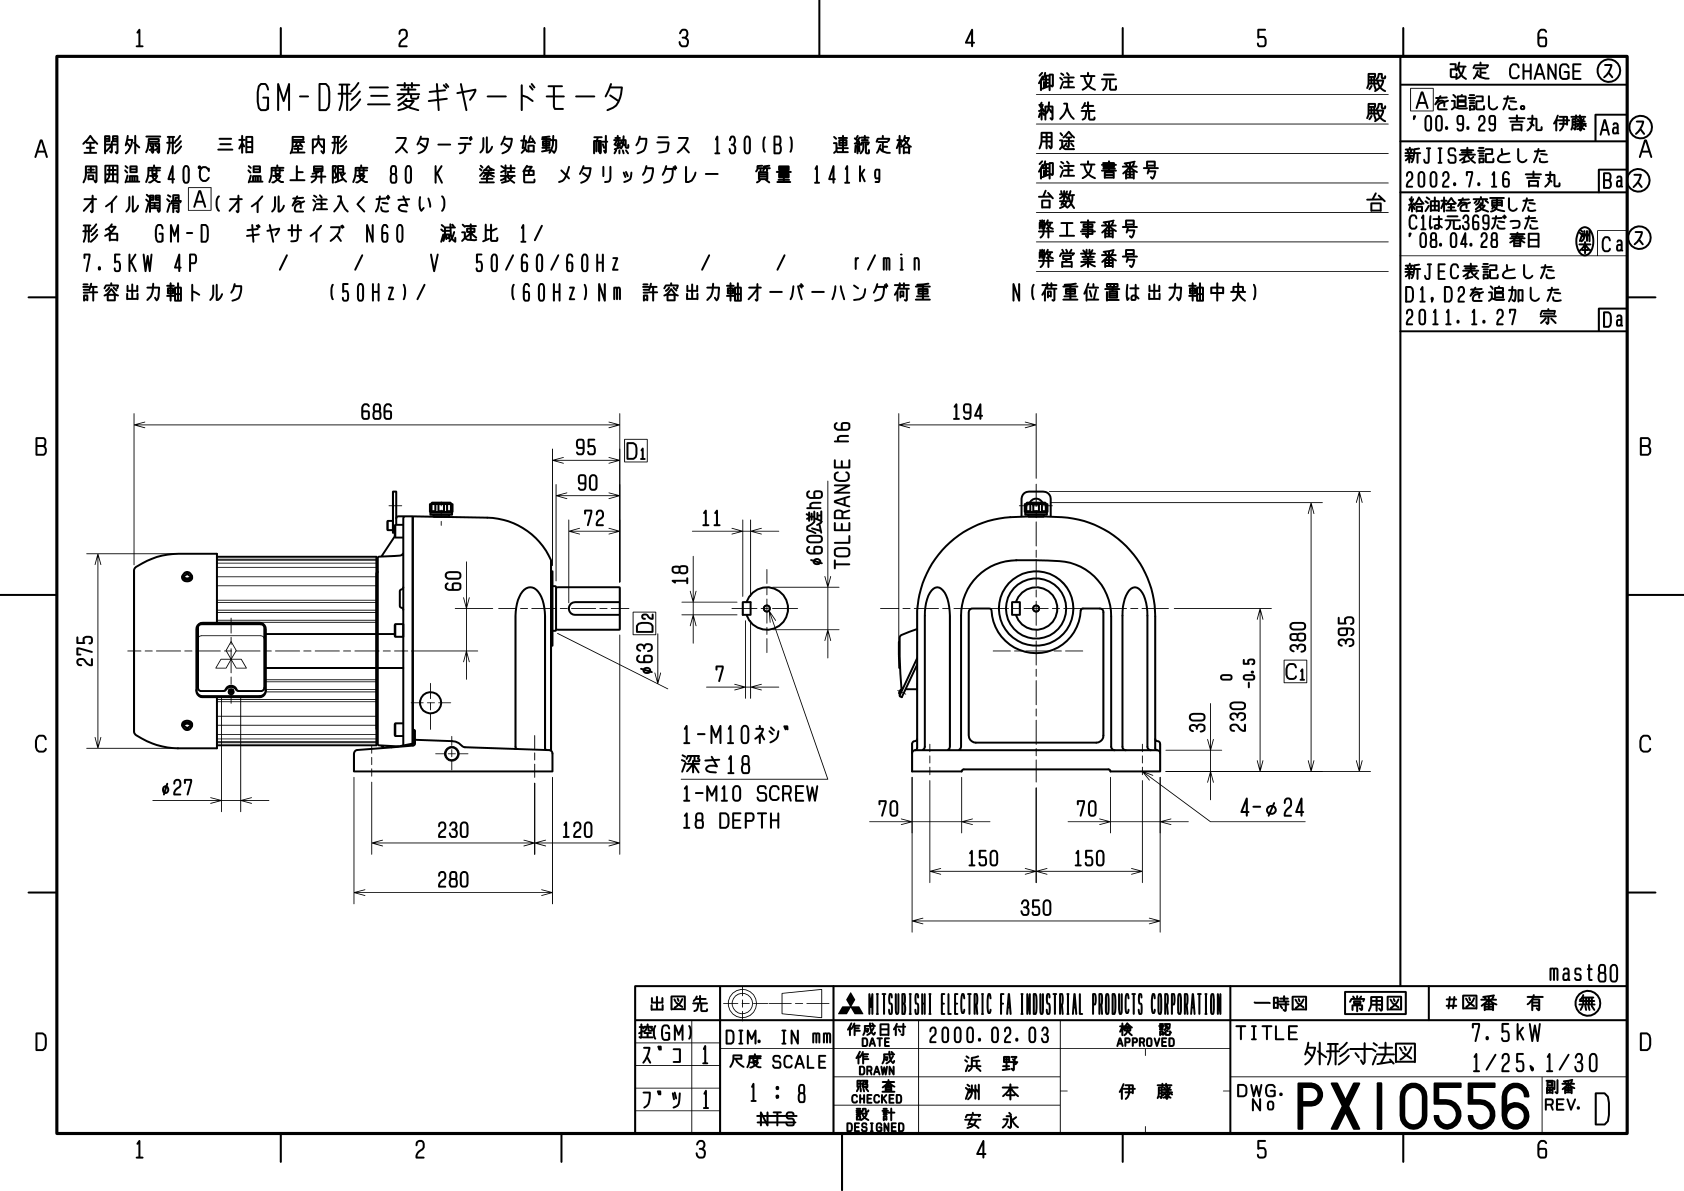GM_D_屋内＿三相_脚: (1, 1, 1674, 1178)
